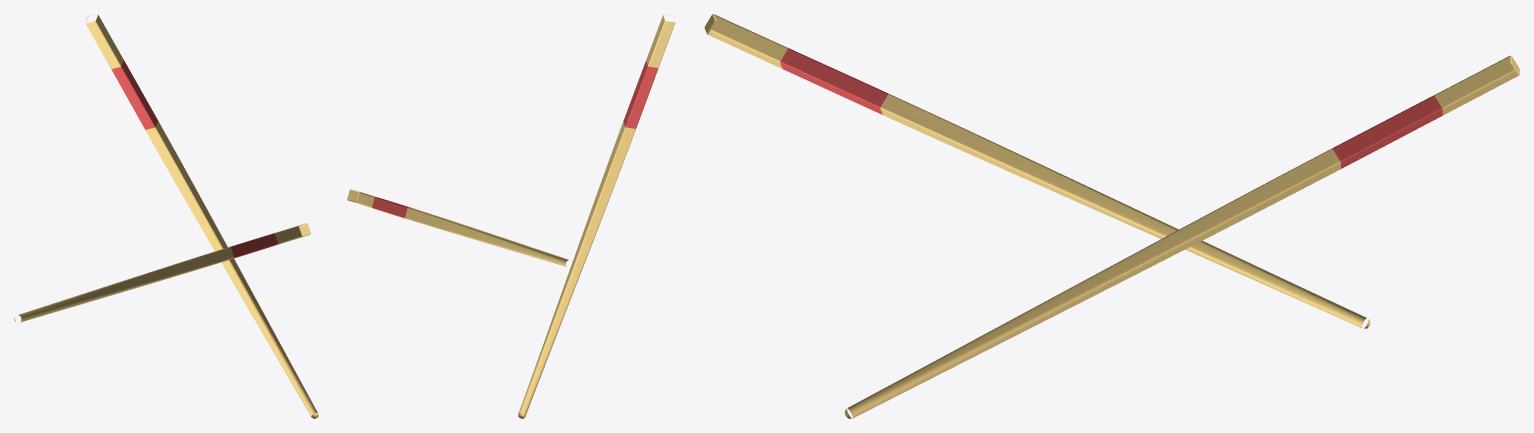
The model's file is 4133c3bd-0cf7-494d-95fe-5cbac786724e.glb.
The picture shows the model from 3 angles, left to right: view 1: azimuth 30°, elevation 25°; view 2: azimuth 150°, elevation 25°; view 3: azimuth 270°, elevation 25°; orthographic projection. The views are drawn at different scales.
Parts seen in each view (by area): view 1: Chopstick.2, Chopstick; view 2: Chopstick, Chopstick.2; view 3: Chopstick.2, Chopstick.
Part boxes in pixels (bbox=[...]): Chopstick.2: bbox=[86, 14, 318, 418]; Chopstick: bbox=[14, 223, 310, 322]; Chopstick: bbox=[518, 14, 675, 418]; Chopstick.2: bbox=[347, 189, 568, 266]; Chopstick.2: bbox=[844, 55, 1519, 418]; Chopstick: bbox=[704, 14, 1370, 328].
Size of the model in its own units: 108 by 189 by 387.
